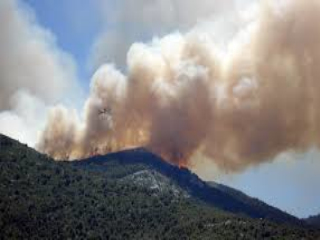smoke: (30, 19, 316, 169)
